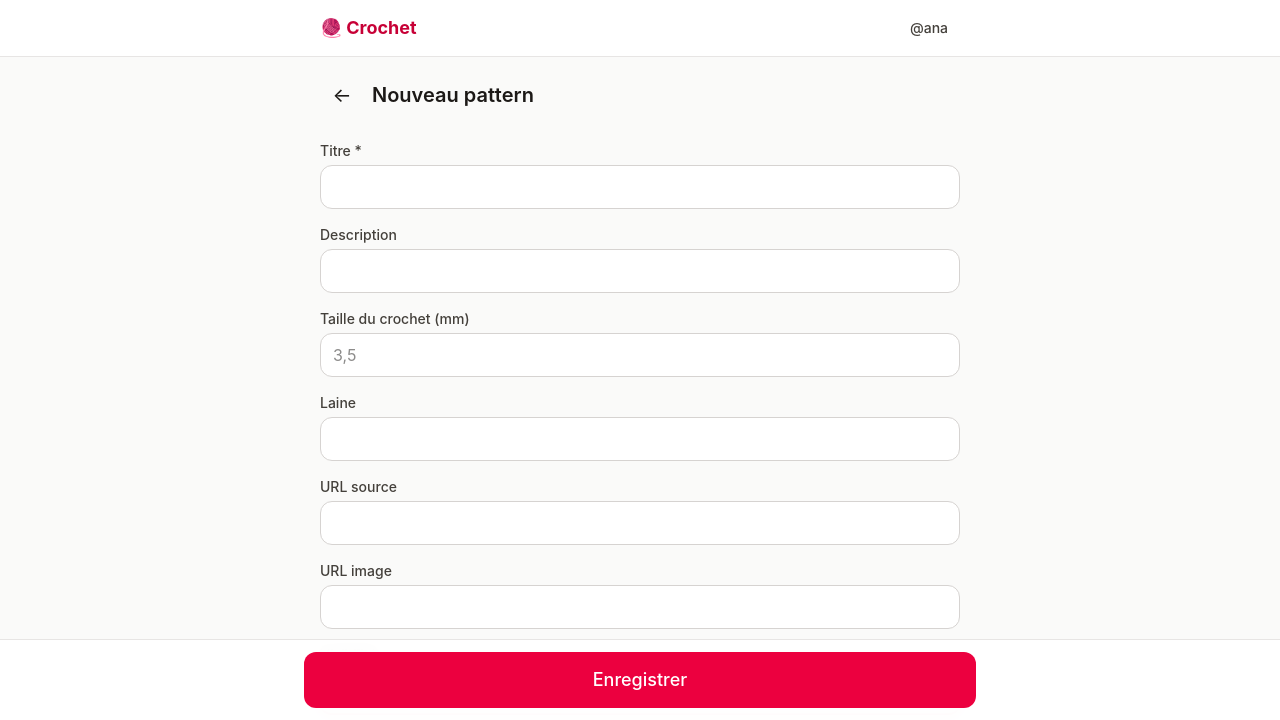
it: visibilité › crée en privé par défaut
The width and height of the screenshot is (1280, 720).
Type "Lapin" into the field labelled "Titre *" at coordinates (640, 187), box [320,165,960,209]
(page scrolled)
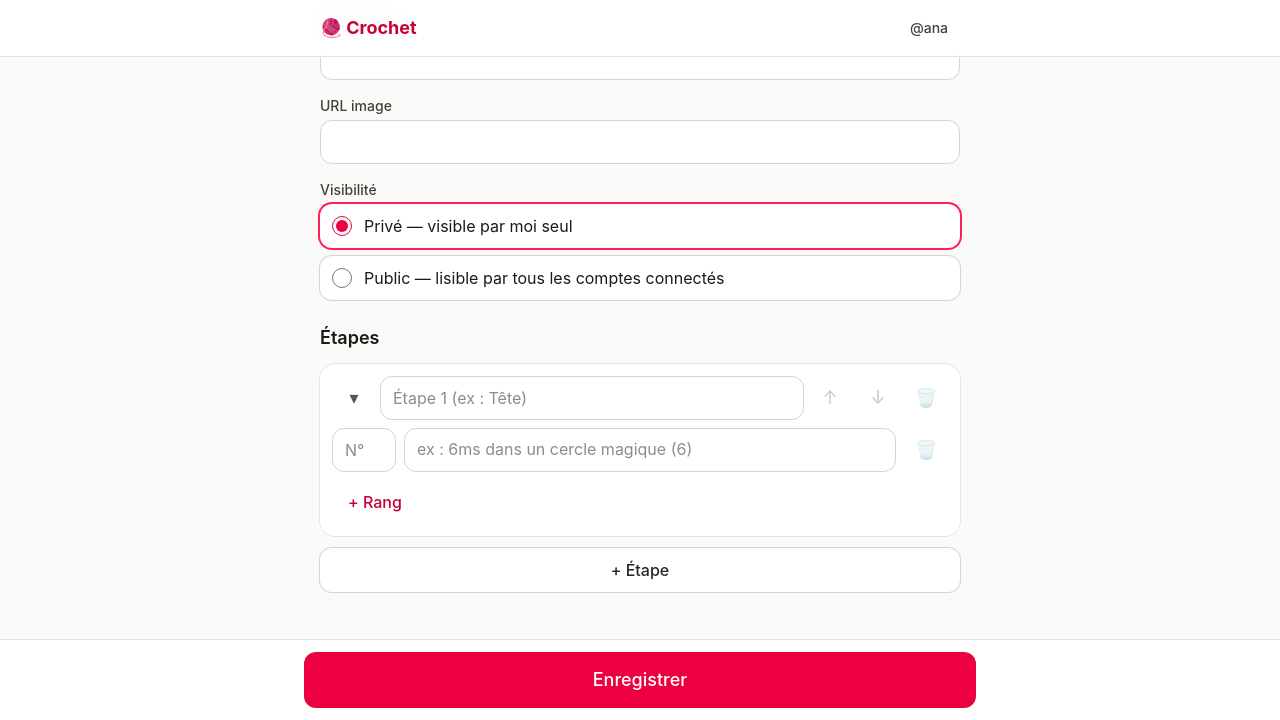
Type "Tête" into the field named "Titre de l’étape 1" at coordinates (592, 398), box [380,376,804,420]
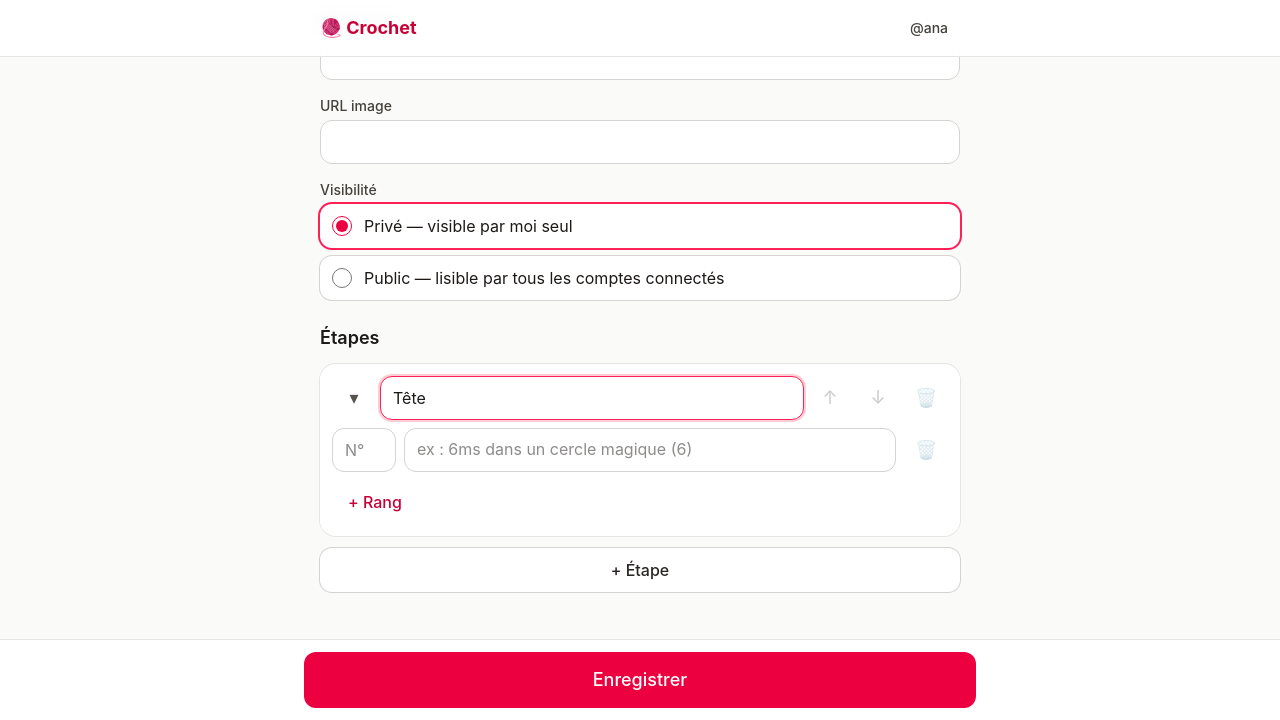
Type "1" into the field named "Numéro du rang 1 de l’étape 1" at coordinates (364, 450), box [332,428,396,472]
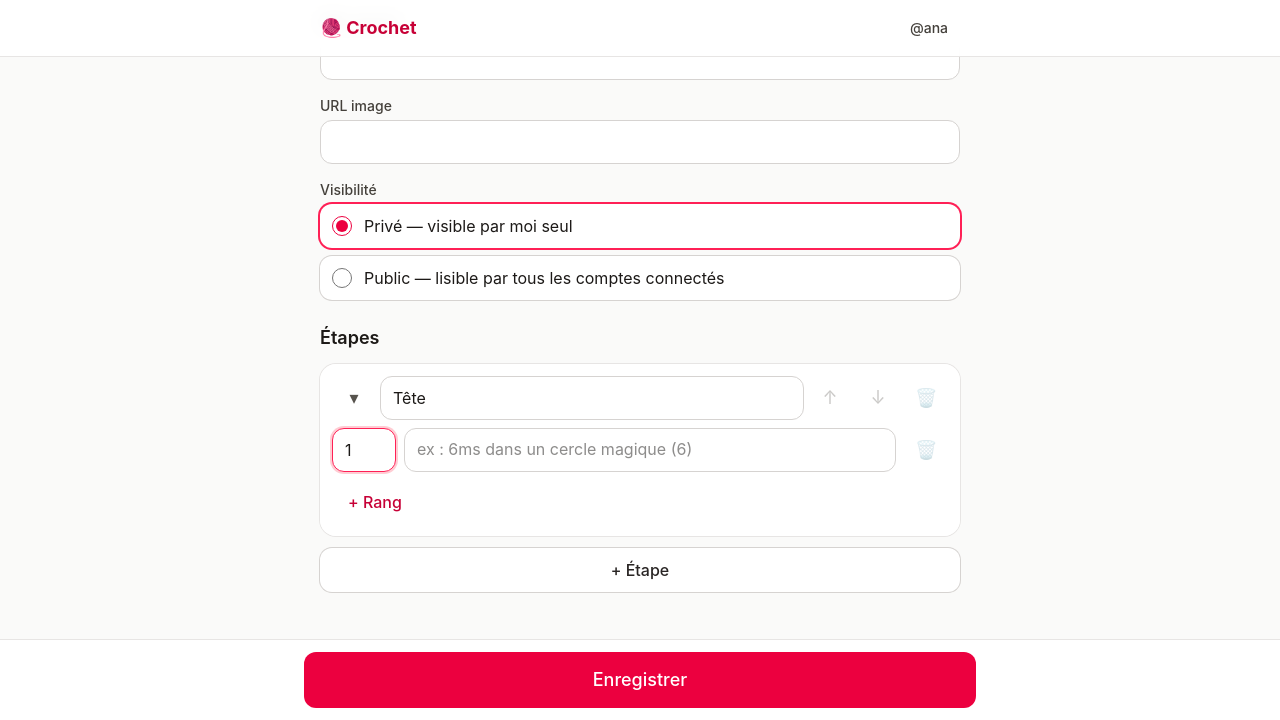
Type "6ms (6)" into the text box named "Instructions du rang 1 de l’étape 1" at coordinates (650, 450), box [404,428,896,472]
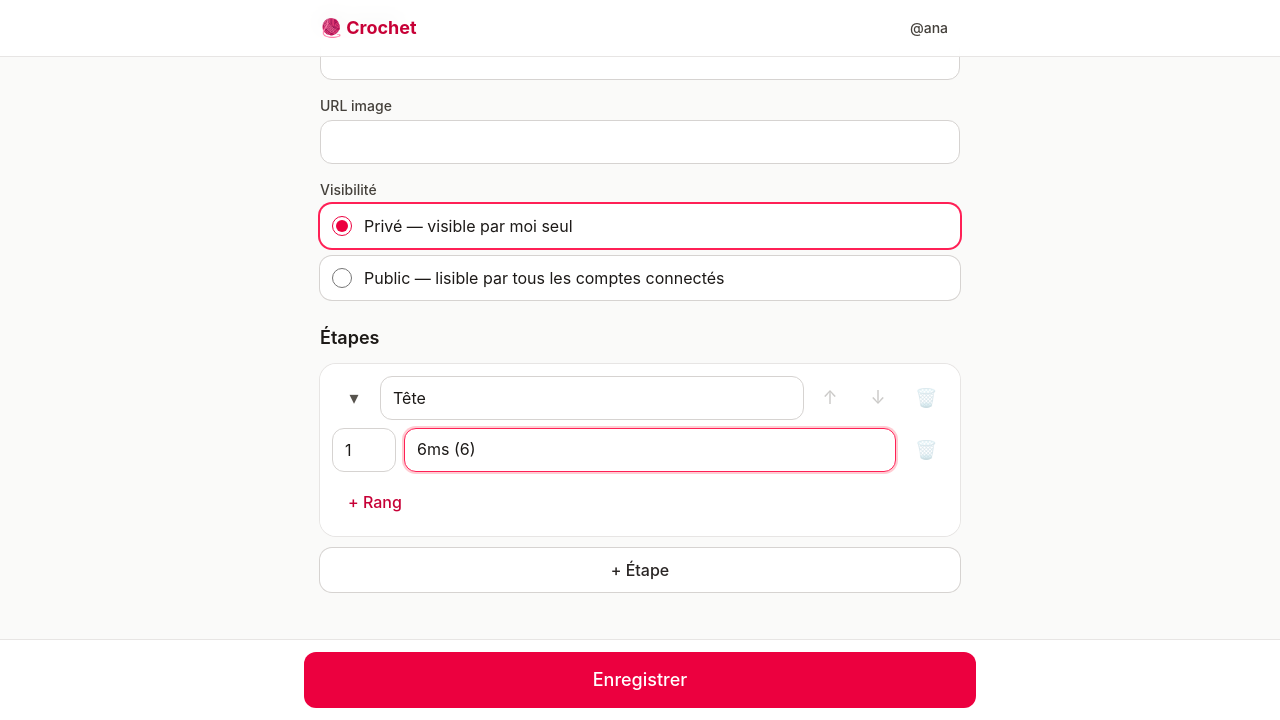
Expected: the radio button labelled "Privé — visible par moi seul" is checked, [332,216,352,236]
Click the button "Enregistrer" at coordinates (640, 680), box [304,652,976,708]
(page scrolled)
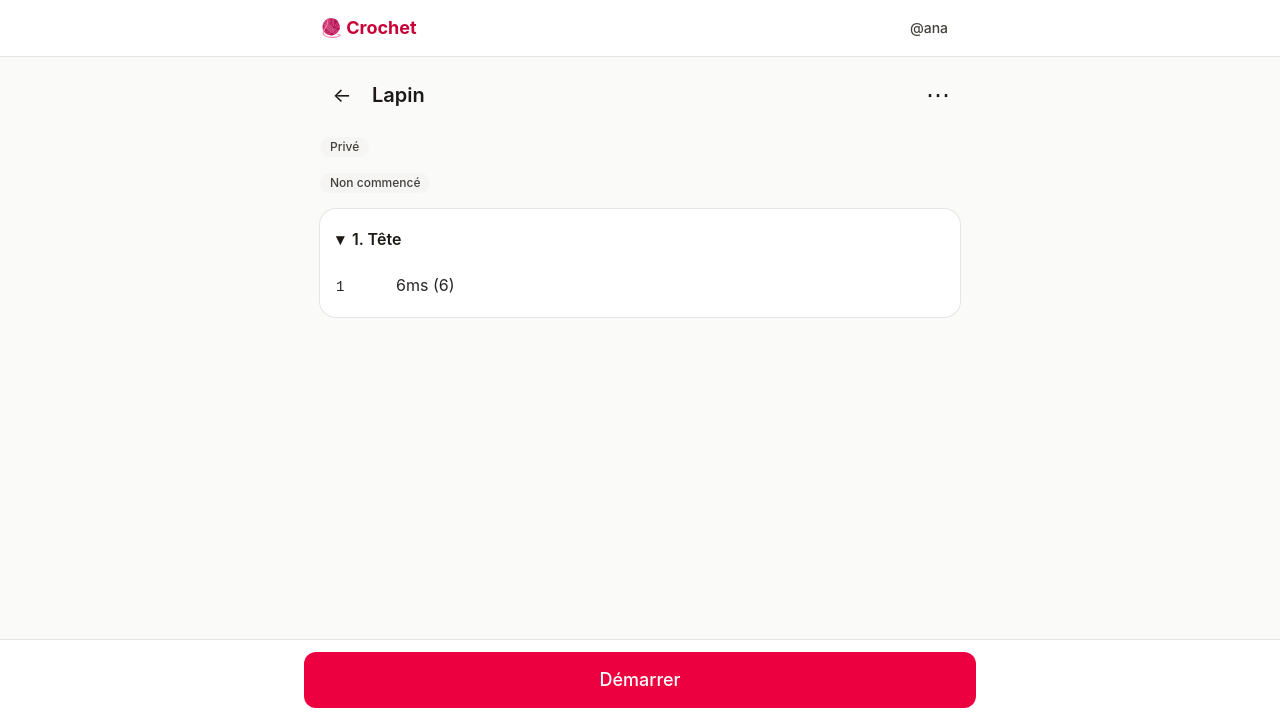
Result: the heading "Lapin" is shown at [372,83,425,107]
